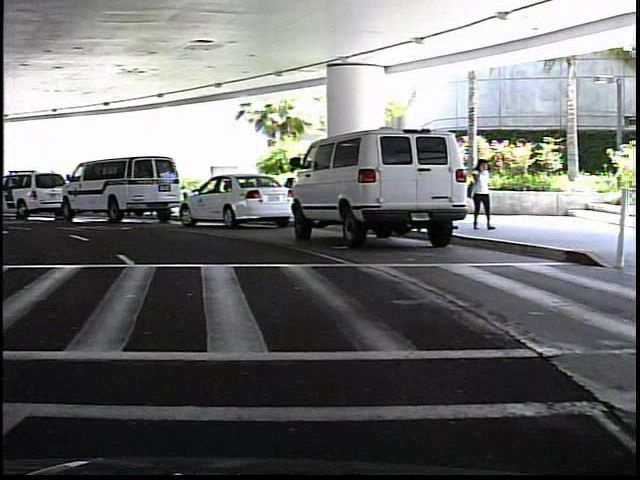person: (469, 153, 495, 228)
